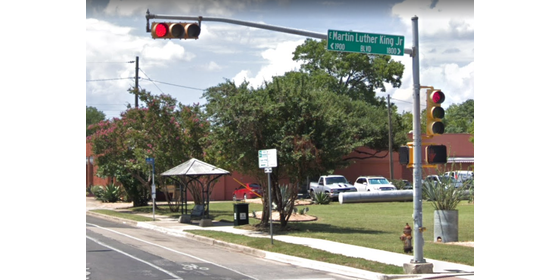street name sign: (326, 27, 408, 60)
